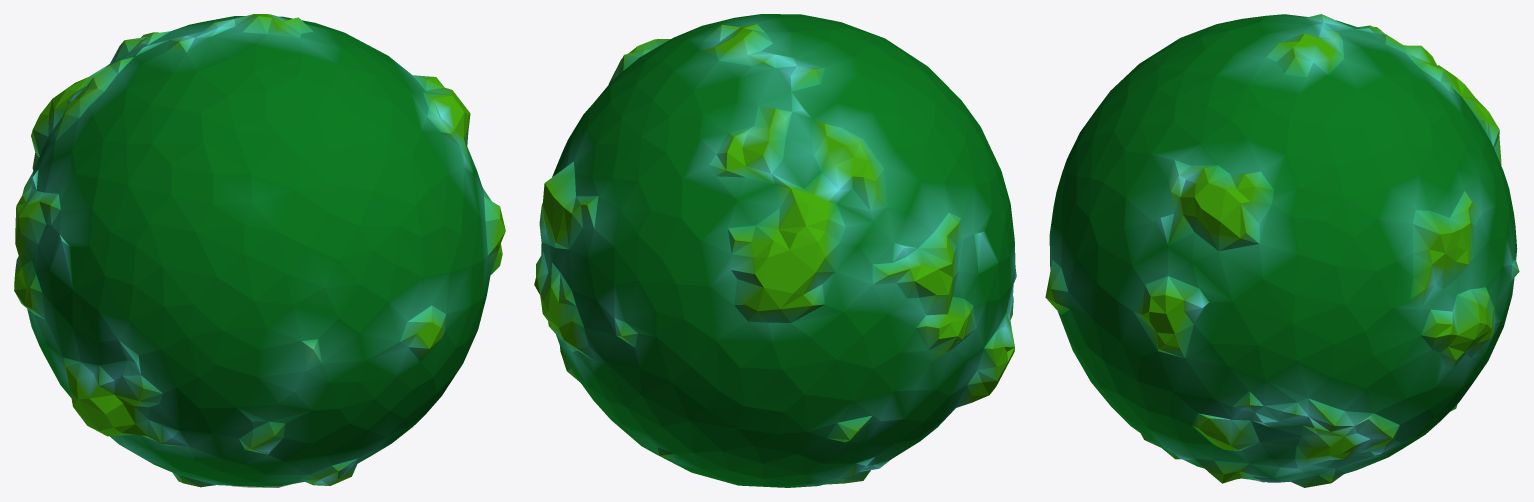
Rendered from planet_52.fbx.
The picture shows the model from 3 angles, left to right: view 1: azimuth 30°, elevation 25°; view 2: azimuth 150°, elevation 25°; view 3: azimuth 270°, elevation 25°; orthographic projection.
Parts seen in each view (by area): view 1: file1; view 2: file1; view 3: file1.
Part boxes in pixels (<box>): file1: <box>14,14,505,487</box>; file1: <box>534,14,1016,487</box>; file1: <box>1045,14,1519,487</box>.
Bounding box in the file's own units: 2.03 × 2.08 × 2.03.
